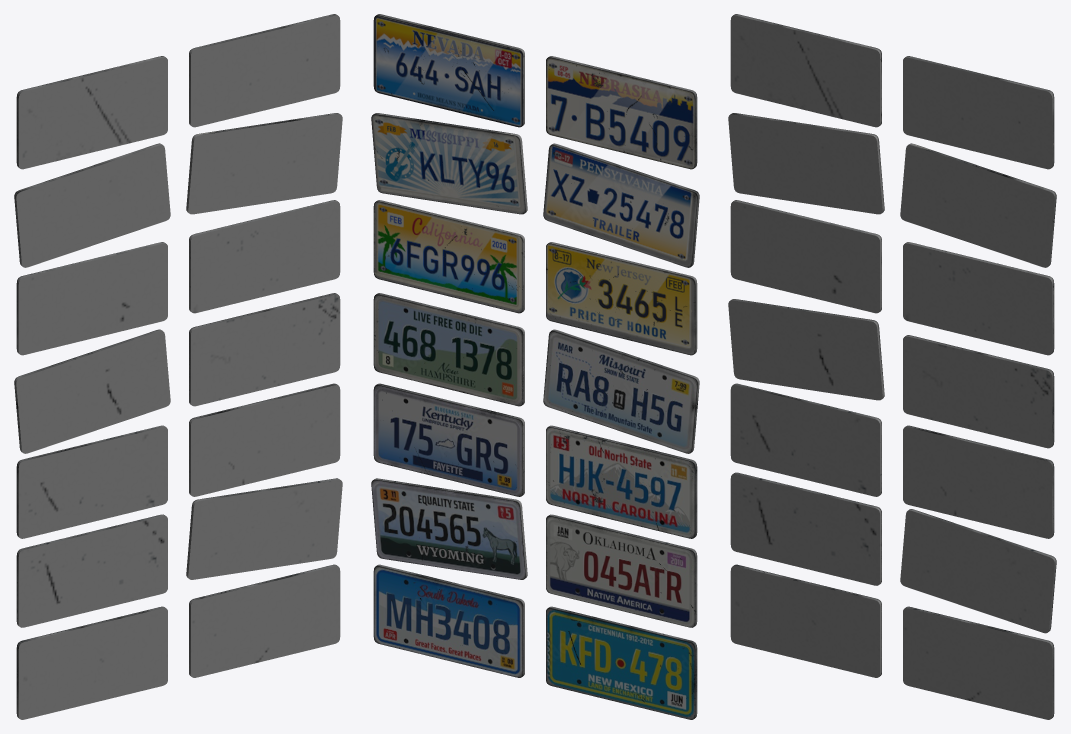
Rendered from Prop_CarPlates_x6.fbx.
3 renders of one model, left to right at view 1: azimuth 30°, elevation 25°; view 2: azimuth 150°, elevation 25°; view 3: azimuth 330°, elevation 25°, orthographic.
Parts seen in each view (by area): view 1: Prop_CarPlates_x6; view 2: Prop_CarPlates_x6; view 3: Prop_CarPlates_x6.
Boxes of the visible parts, <box> form: Prop_CarPlates_x6: <box>14,14,342,719</box>; Prop_CarPlates_x6: <box>371,14,699,719</box>; Prop_CarPlates_x6: <box>728,14,1056,719</box>.
Bounding box in the file's own units: 57.39 × 106 × 0.6109.
